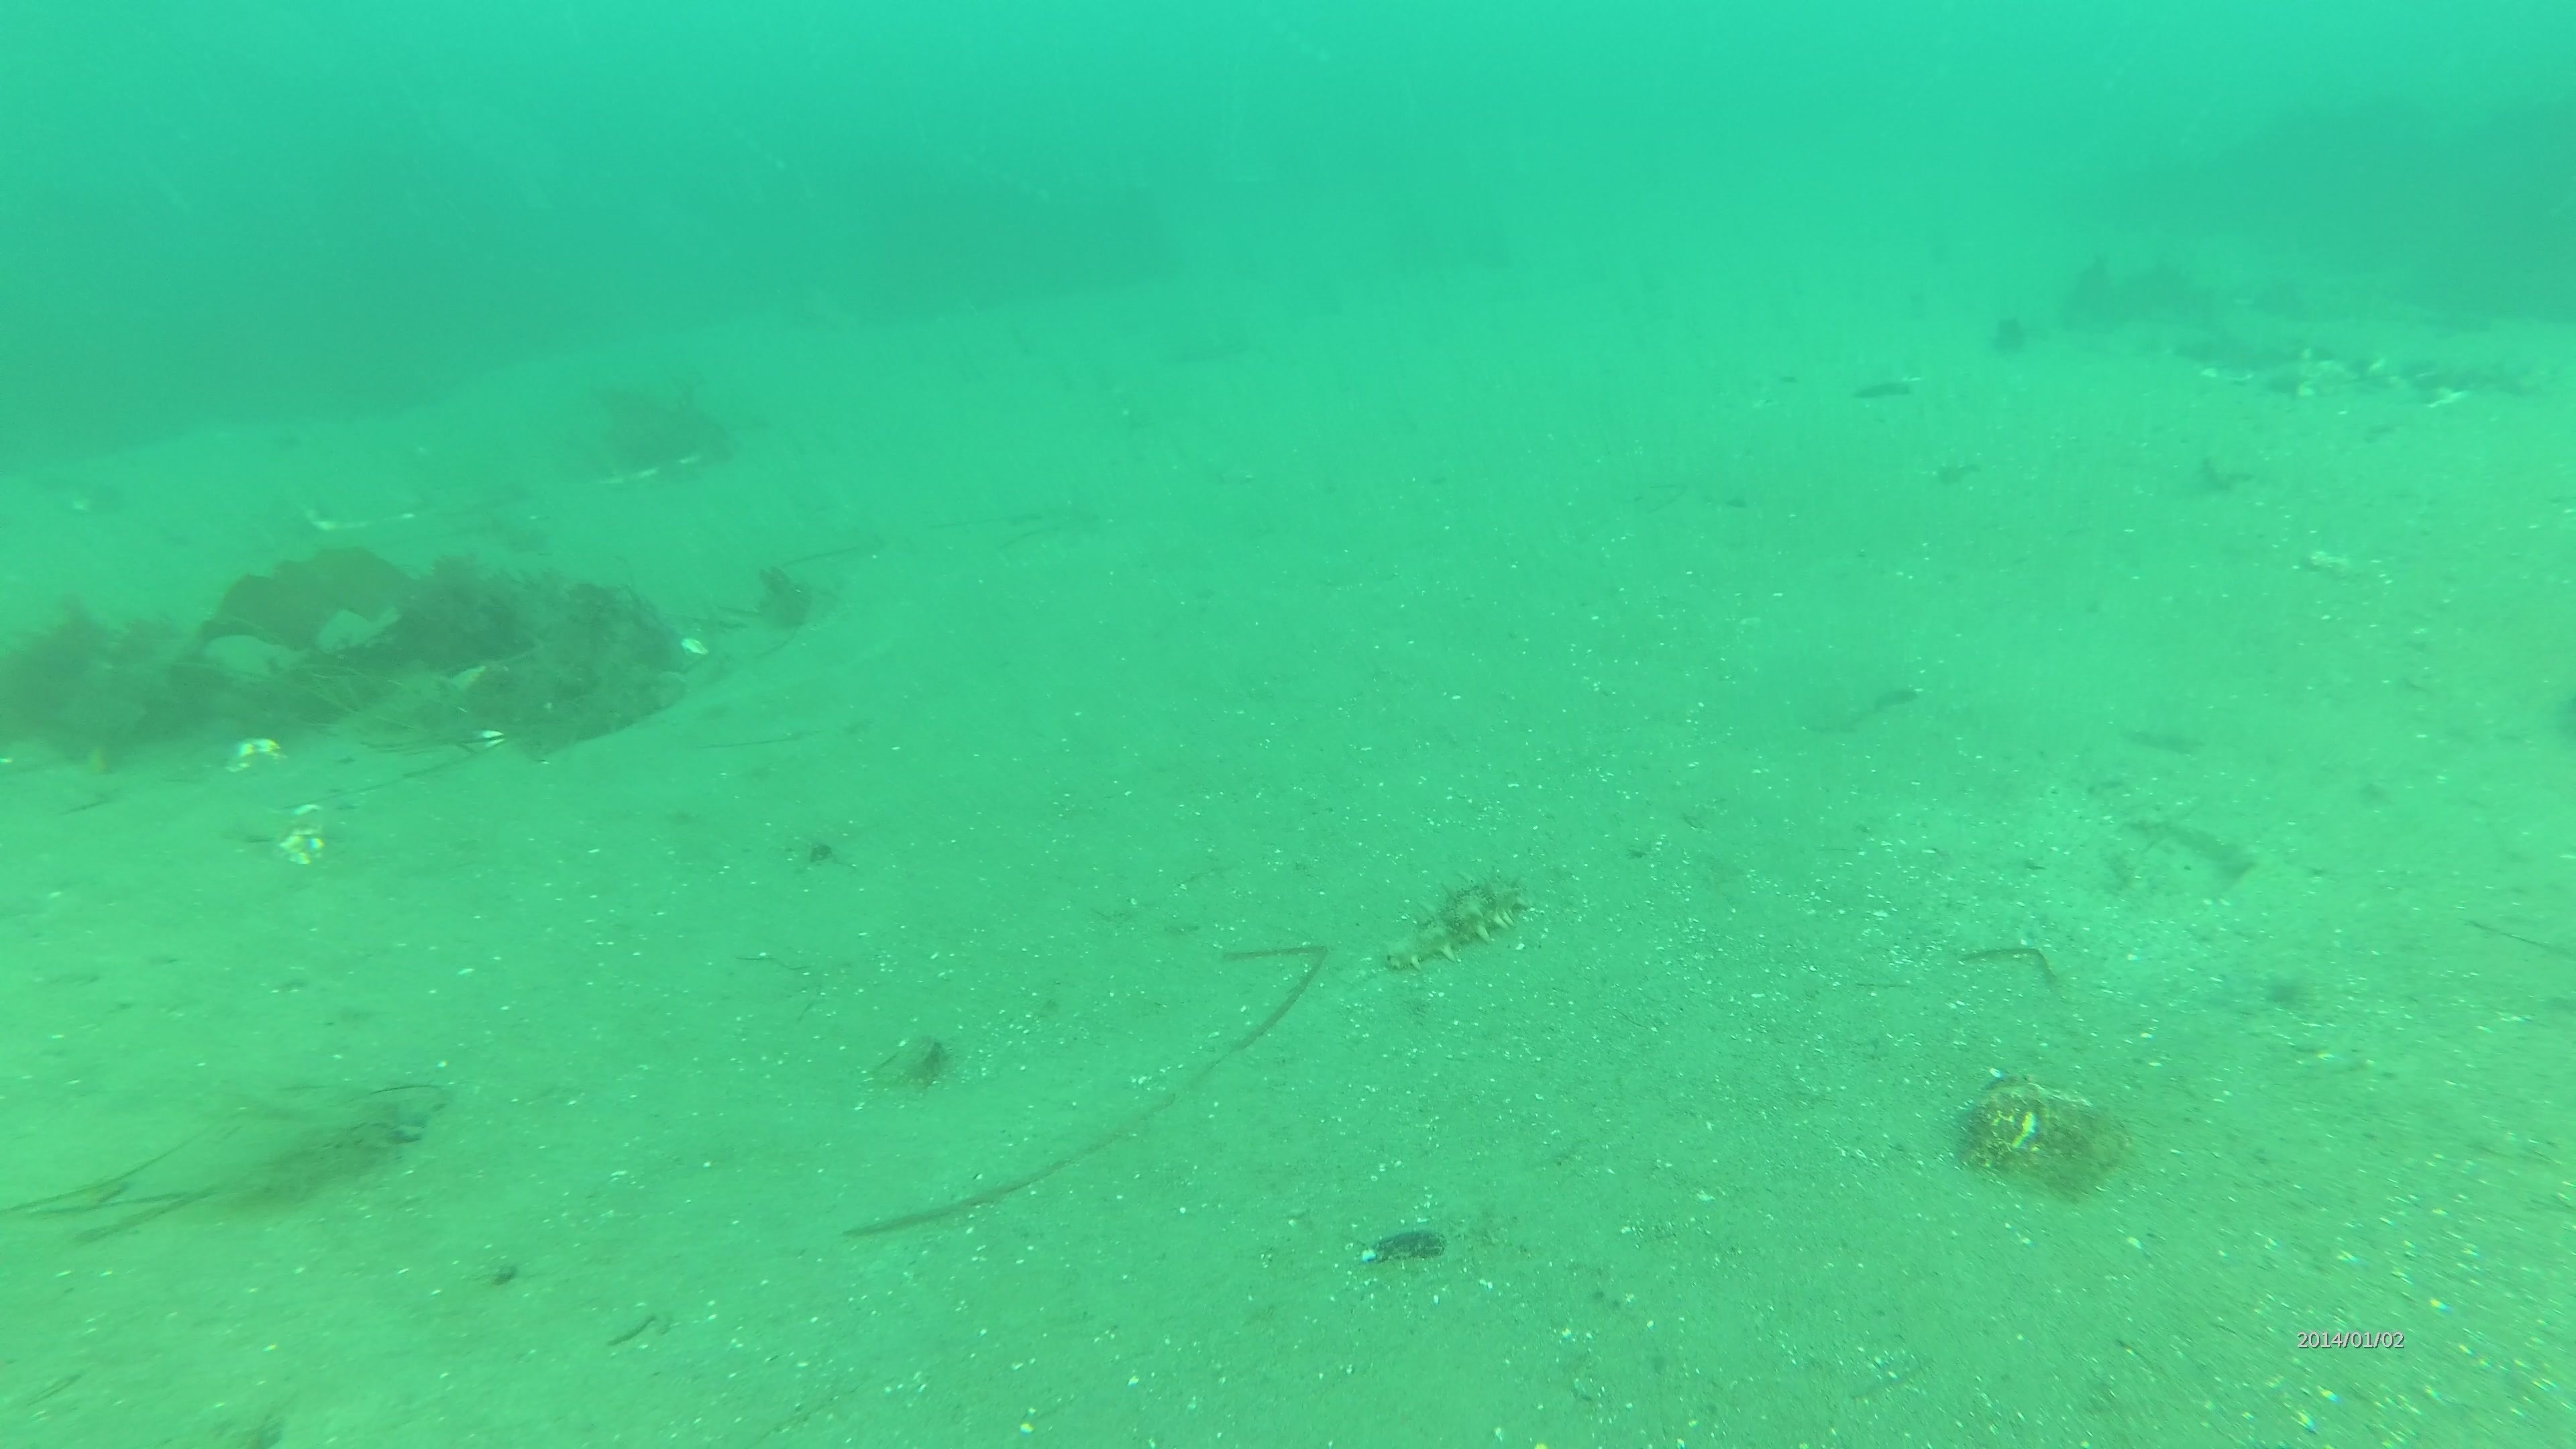holothurian: (1385, 867, 1530, 975)
